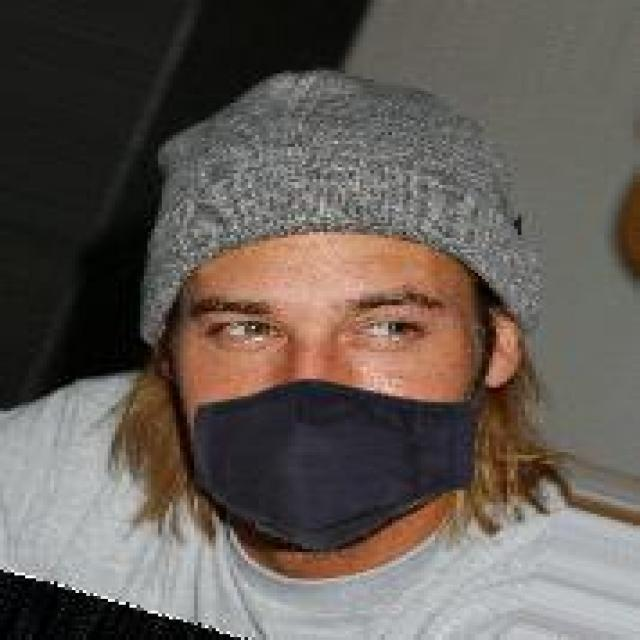mask: (137, 94, 557, 567)
